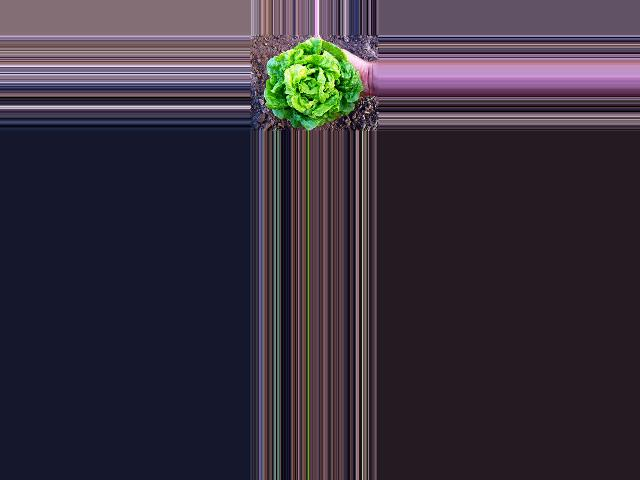lettuce: (262, 39, 356, 127)
